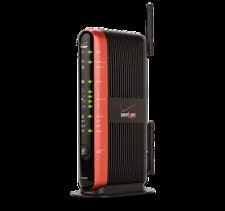Verizon Router: (65, 8, 160, 197)
